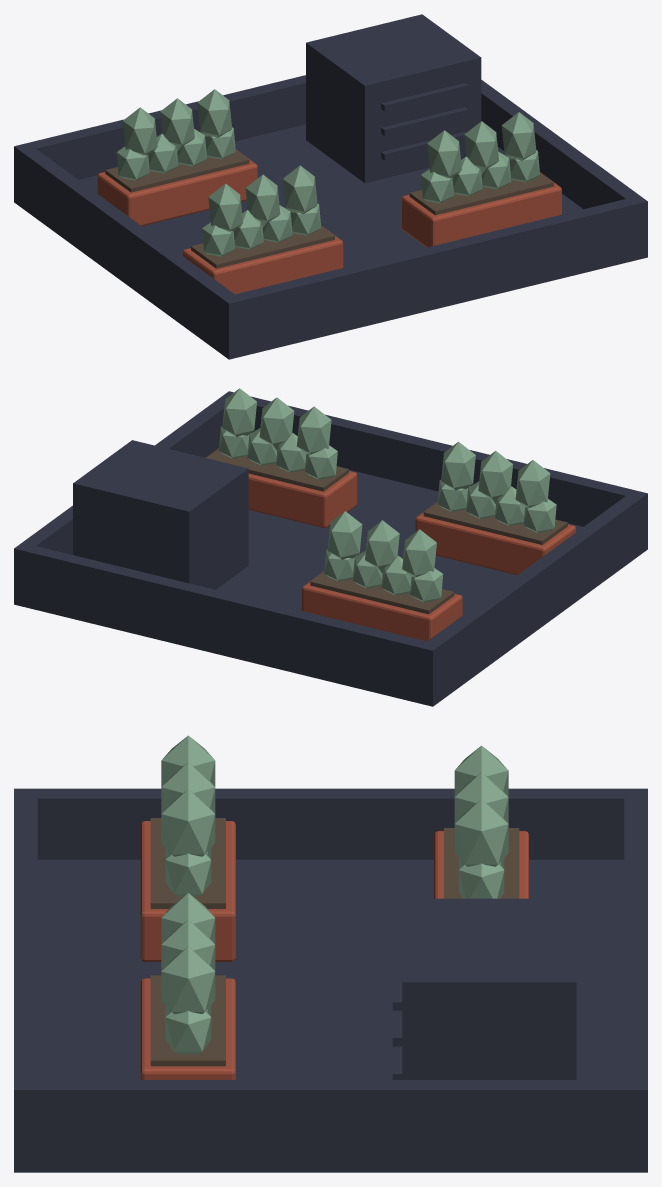
The model's file is roof_garden_works.glb.
3 views of the same model, one above another, from view 1: azimuth 30°, elevation 25°; view 2: azimuth 150°, elevation 25°; view 3: azimuth 270°, elevation 25° (orthographic). The views are drawn at different scales.
Visible parts, largest first — view 1: roof_garden_works ink, roof_garden_works steel, roof_garden_works leaf, roof_garden_works clay, roof_garden_works soil, roof_garden_works pine; view 2: roof_garden_works ink, roof_garden_works steel, roof_garden_works leaf, roof_garden_works clay, roof_garden_works soil, roof_garden_works pine; view 3: roof_garden_works ink, roof_garden_works steel, roof_garden_works leaf, roof_garden_works clay, roof_garden_works soil, roof_garden_works pine.
Part boxes in pixels (x1,y1,x2,y2): roof_garden_works ink: [14, 75, 647, 359]; roof_garden_works steel: [306, 14, 481, 183]; roof_garden_works leaf: [116, 89, 536, 256]; roof_garden_works clay: [97, 149, 561, 294]; roof_garden_works soil: [105, 150, 553, 268]; roof_garden_works pine: [148, 127, 539, 249]; roof_garden_works ink: [14, 391, 647, 706]; roof_garden_works steel: [73, 440, 248, 589]; roof_garden_works leaf: [222, 388, 556, 602]; roof_garden_works clay: [206, 448, 575, 641]; roof_garden_works soil: [206, 449, 567, 614]; roof_garden_works pine: [218, 426, 524, 595]; roof_garden_works ink: [14, 788, 647, 1172]; roof_garden_works steel: [402, 898, 576, 1079]; roof_garden_works leaf: [161, 735, 508, 1016]; roof_garden_works clay: [140, 821, 528, 1079]; roof_garden_works soil: [150, 818, 519, 1066]; roof_garden_works pine: [165, 853, 504, 1053].
Bounding box in the file's own units: 0.9 × 0.245 × 0.8.
